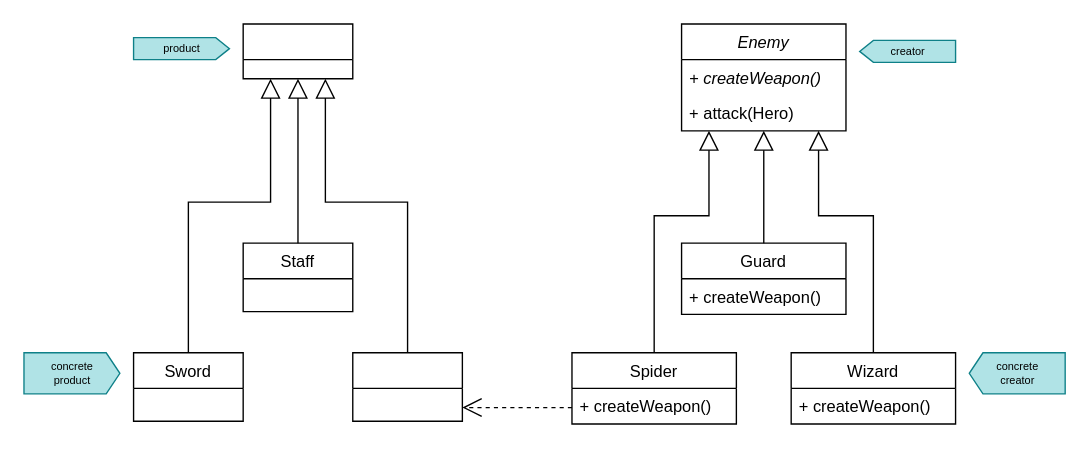
Image size: 1089x452. Some labels were removed from this diagram. The centre of each missing label's shape, as x and y in pixels:
"Fang" goes at (406,386).
"Weapon" goes at (297,51).
